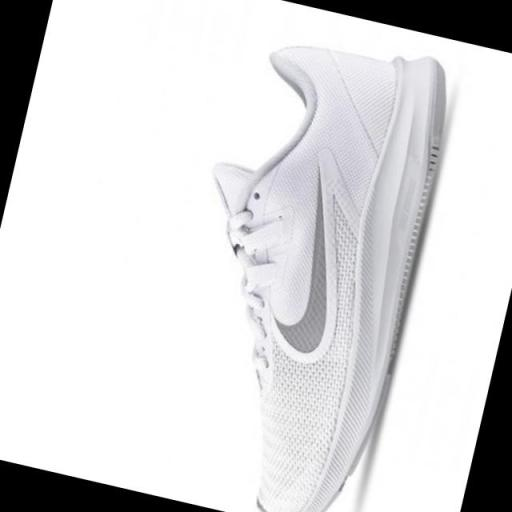Nike: (258, 144, 372, 366)
